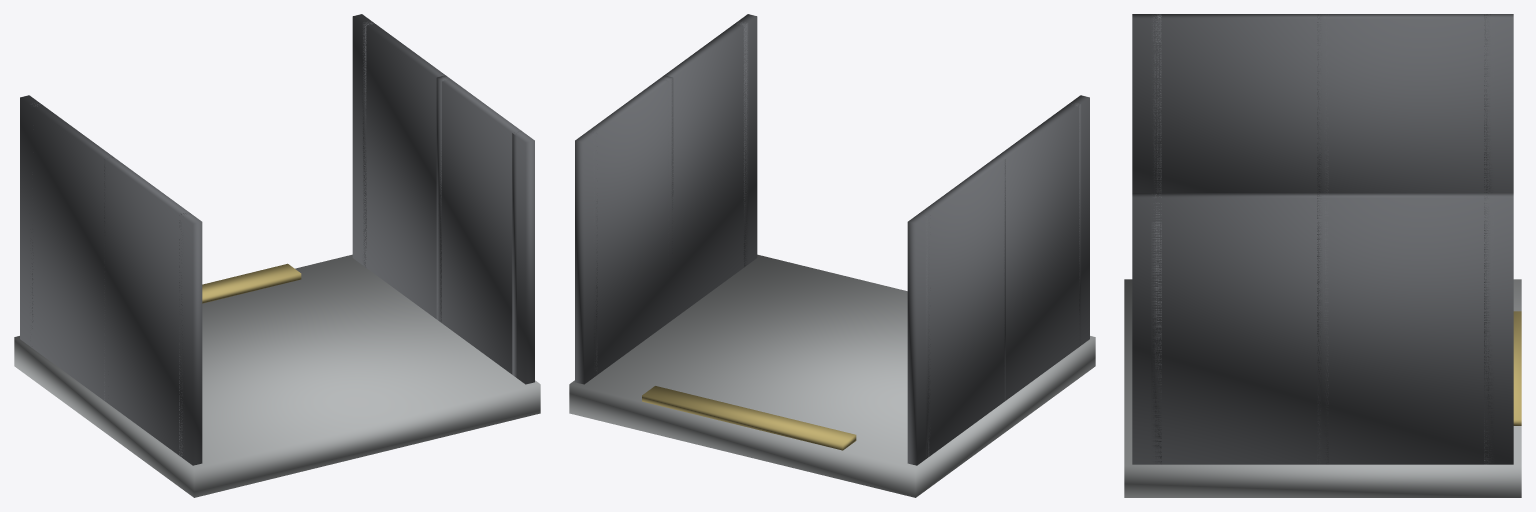
File: floor_w150_d135_sides.glb
3 renders of one model, left to right at view 1: azimuth 30°, elevation 25°; view 2: azimuth 150°, elevation 25°; view 3: azimuth 270°, elevation 25°, orthographic. The views are drawn at different scales.
Visible parts, largest first — view 1: world; view 2: world; view 3: world.
Part boxes in pixels (bbox=[...]): world: bbox=[14, 14, 540, 497]; world: bbox=[569, 14, 1095, 497]; world: bbox=[1124, 14, 1521, 497].
Size of the model in its own units: 1.5 by 1.12 by 1.35.
